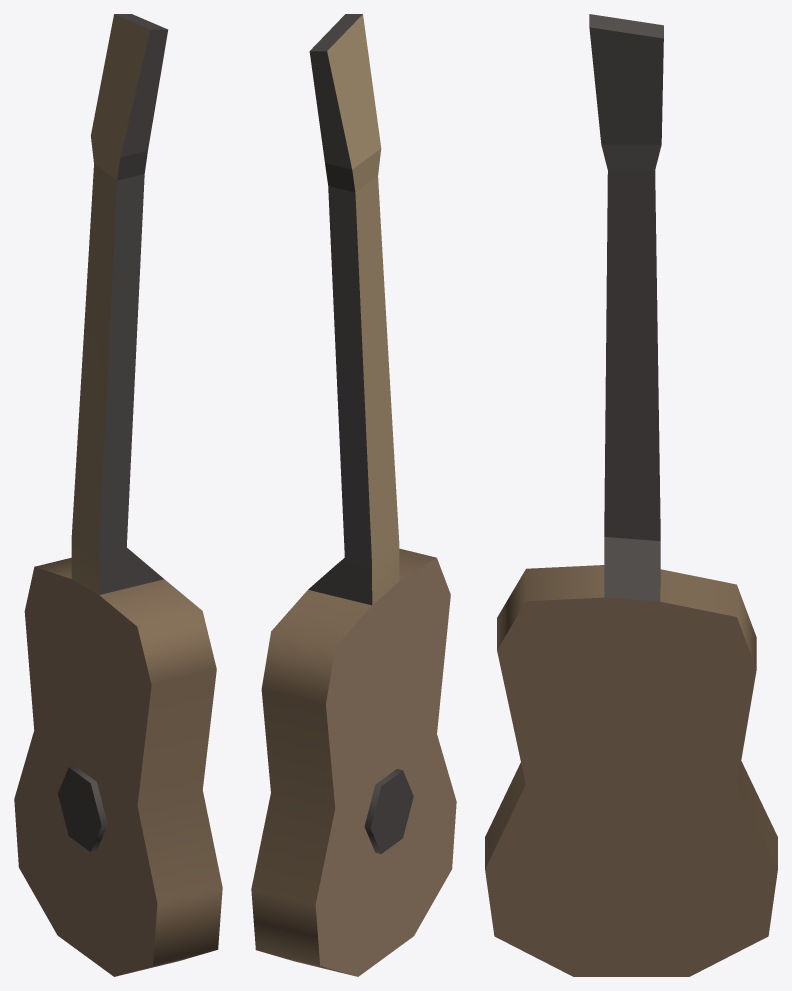
The model's file is P_guitar_01.fbx.
The picture shows the model from 3 angles, left to right: view 1: azimuth 30°, elevation 25°; view 2: azimuth 150°, elevation 25°; view 3: azimuth 270°, elevation 25°; orthographic projection. The views are drawn at different scales.
Parts seen in each view (by area): view 1: lod1; view 2: lod1; view 3: lod1.
Boxes of the visible parts, left/top/right/bottom form: lod1: left=14, top=14, right=222, bottom=976; lod1: left=251, top=14, right=456, bottom=976; lod1: left=485, top=14, right=777, bottom=976.
Size of what is drawn, in the model's own units: 0.1397 by 1.74 by 0.4854.
1 material, 1 textured.
